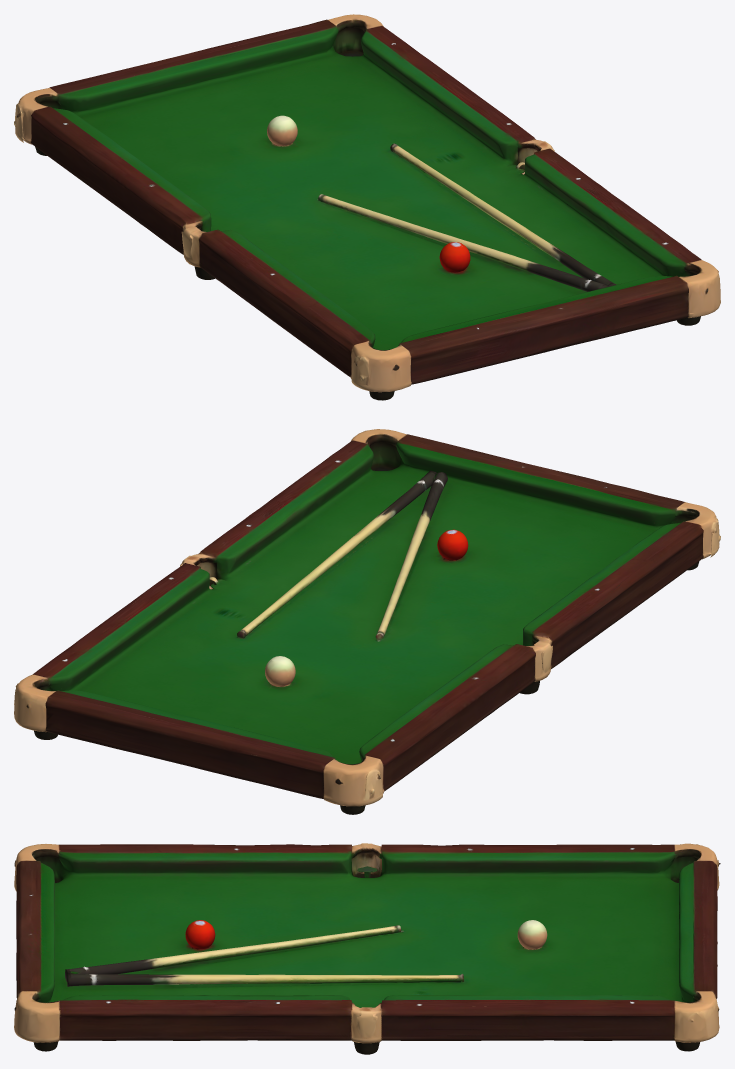
File: bar_sinuca.glb
3 views of the same model, one above another, from view 1: azimuth 30°, elevation 25°; view 2: azimuth 150°, elevation 25°; view 3: azimuth 270°, elevation 25° (orthographic). The views are drawn at different scales.
Visible parts, largest first — view 1: tripo_node_23ec9490-6783-44e4-9f8b-67676142edb5; view 2: tripo_node_23ec9490-6783-44e4-9f8b-67676142edb5; view 3: tripo_node_23ec9490-6783-44e4-9f8b-67676142edb5.
Boxes of the visible parts, x1,y1,x2,y2 form: tripo_node_23ec9490-6783-44e4-9f8b-67676142edb5: [14, 14, 720, 400]; tripo_node_23ec9490-6783-44e4-9f8b-67676142edb5: [14, 429, 720, 814]; tripo_node_23ec9490-6783-44e4-9f8b-67676142edb5: [14, 843, 720, 1054].
Bounding box in the file's own units: 0.5622 × 0.0827 × 0.9811.
Materials: 1 (1 with a texture image).
